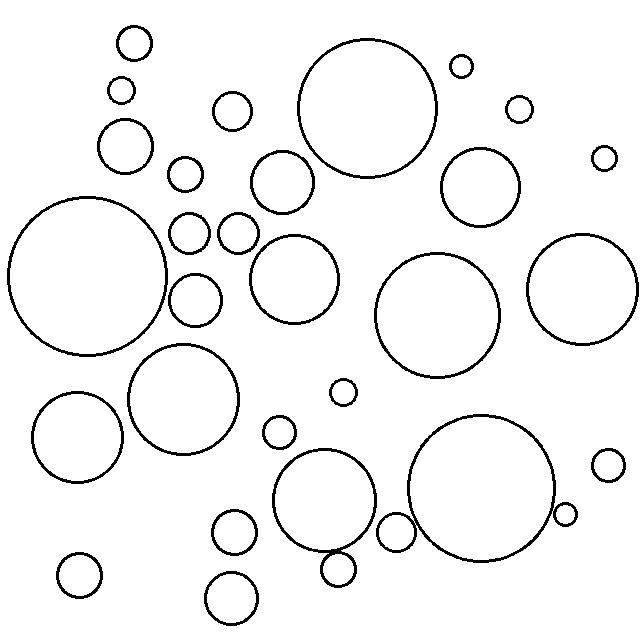circle: (4, 192, 171, 359), (405, 410, 559, 567), (293, 31, 442, 183), (372, 248, 504, 383), (122, 340, 244, 461), (525, 229, 640, 349), (268, 444, 380, 556), (26, 387, 128, 487), (246, 231, 347, 328), (439, 143, 526, 232), (246, 145, 317, 218), (93, 116, 163, 178), (202, 567, 264, 628), (168, 268, 226, 332), (210, 504, 262, 561), (54, 548, 108, 602), (208, 85, 258, 135), (166, 208, 214, 258), (215, 210, 264, 258), (111, 20, 159, 68), (375, 509, 421, 559), (164, 151, 208, 196), (317, 548, 362, 591), (588, 442, 630, 486), (259, 413, 301, 452), (502, 90, 538, 129), (105, 72, 140, 110), (327, 374, 361, 411), (588, 140, 621, 176), (447, 47, 479, 84), (552, 497, 581, 532)
